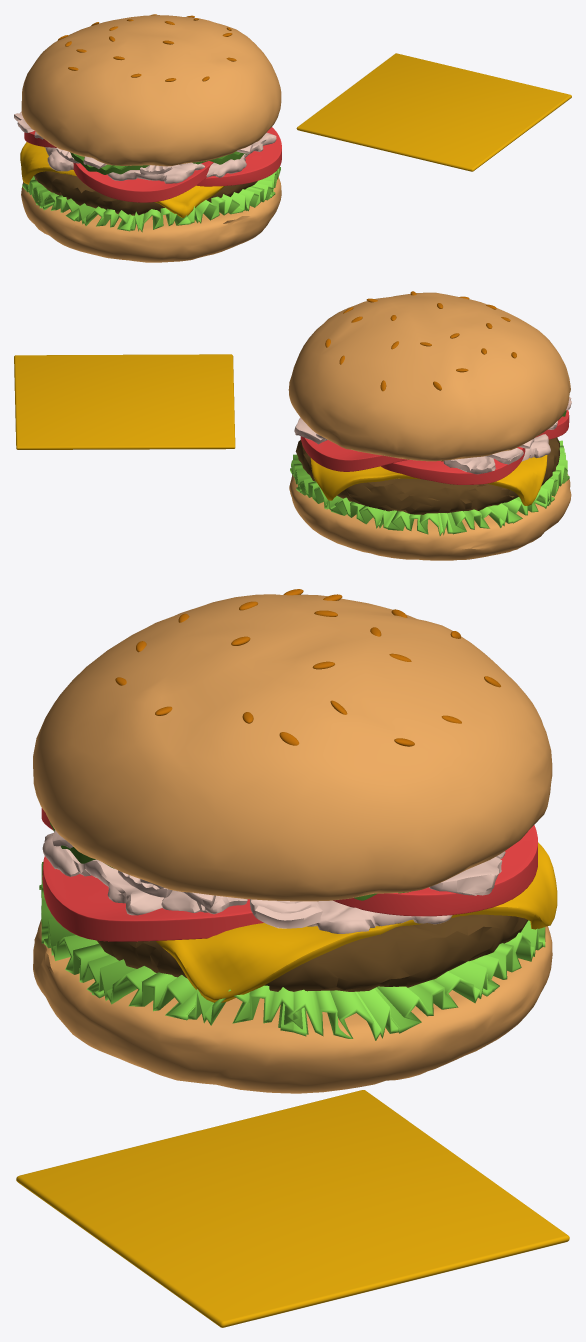
The model's file is HAMBURGER 2.fbx.
3 views of the same model, one above another, from view 1: azimuth 30°, elevation 25°; view 2: azimuth 150°, elevation 25°; view 3: azimuth 270°, elevation 25° (orthographic). The views are drawn at different scales.
Parts seen in each view (by area): view 1: ust_ekmek, Peynir_duz, Alt_ekmek, Domates, Marul, Sogan_parcalari, Kofte, Peynir, tursu; view 2: ust_ekmek, Peynir_duz, Alt_ekmek, Kofte, Marul, Domates, Peynir, Sogan_parcalari; view 3: ust_ekmek, Peynir_duz, Alt_ekmek, Marul, Domates, Kofte, Peynir, Sogan_parcalari.
Part boxes in pixels (<box>): ust_ekmek: <box>21,14,281,166</box>; Peynir_duz: <box>296,53,571,171</box>; Alt_ekmek: <box>21,177,281,262</box>; Domates: <box>24,127,281,202</box>; Marul: <box>22,166,280,232</box>; Sogan_parcalari: <box>14,111,276,183</box>; Kofte: <box>34,171,257,215</box>; Peynir: <box>20,142,224,217</box>; tursu: <box>70,151,247,174</box>; ust_ekmek: <box>288,291,570,461</box>; Peynir_duz: <box>14,354,235,449</box>; Alt_ekmek: <box>289,474,571,560</box>; Kofte: <box>295,437,559,514</box>; Marul: <box>290,437,569,535</box>; Domates: <box>300,410,569,484</box>; Peynir: <box>310,455,547,505</box>; Sogan_parcalari: <box>294,397,571,474</box>; ust_ekmek: <box>33,589,552,901</box>; Peynir_duz: <box>16,1090,569,1327</box>; Alt_ekmek: <box>33,919,552,1093</box>; Marul: <box>39,862,545,1040</box>; Domates: <box>41,808,537,941</box>; Kofte: <box>96,914,528,991</box>; Peynir: <box>156,842,557,1002</box>; Sogan_parcalari: <box>42,830,505,933</box>.
Size of the model in its own units: 46.72 by 15.92 by 21.7.
